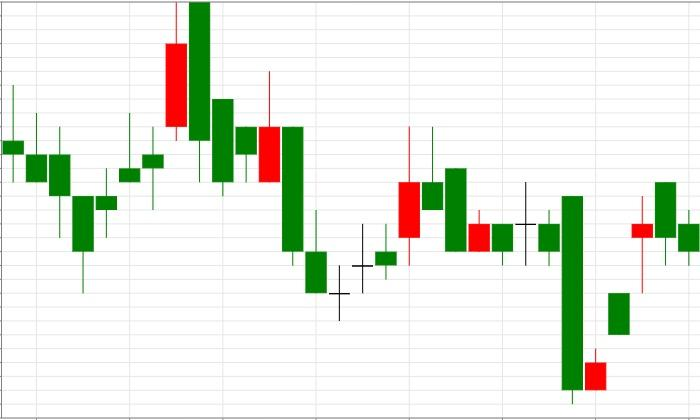bearish_engulfing_fall: (73, 1, 210, 293)
shooting_star_fall: (328, 127, 443, 321)
